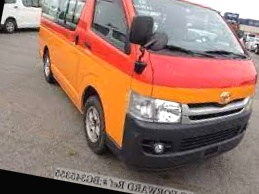van: (16, 0, 259, 178)
